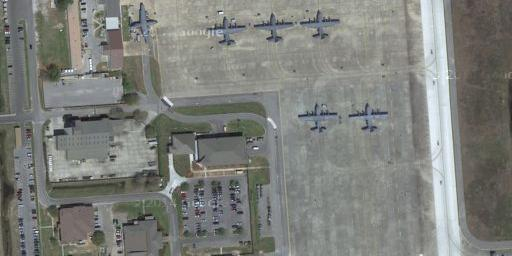C-130: (203, 12, 250, 50), (296, 9, 344, 42), (346, 101, 394, 134), (295, 102, 342, 135), (252, 10, 297, 44), (126, 3, 160, 46)
